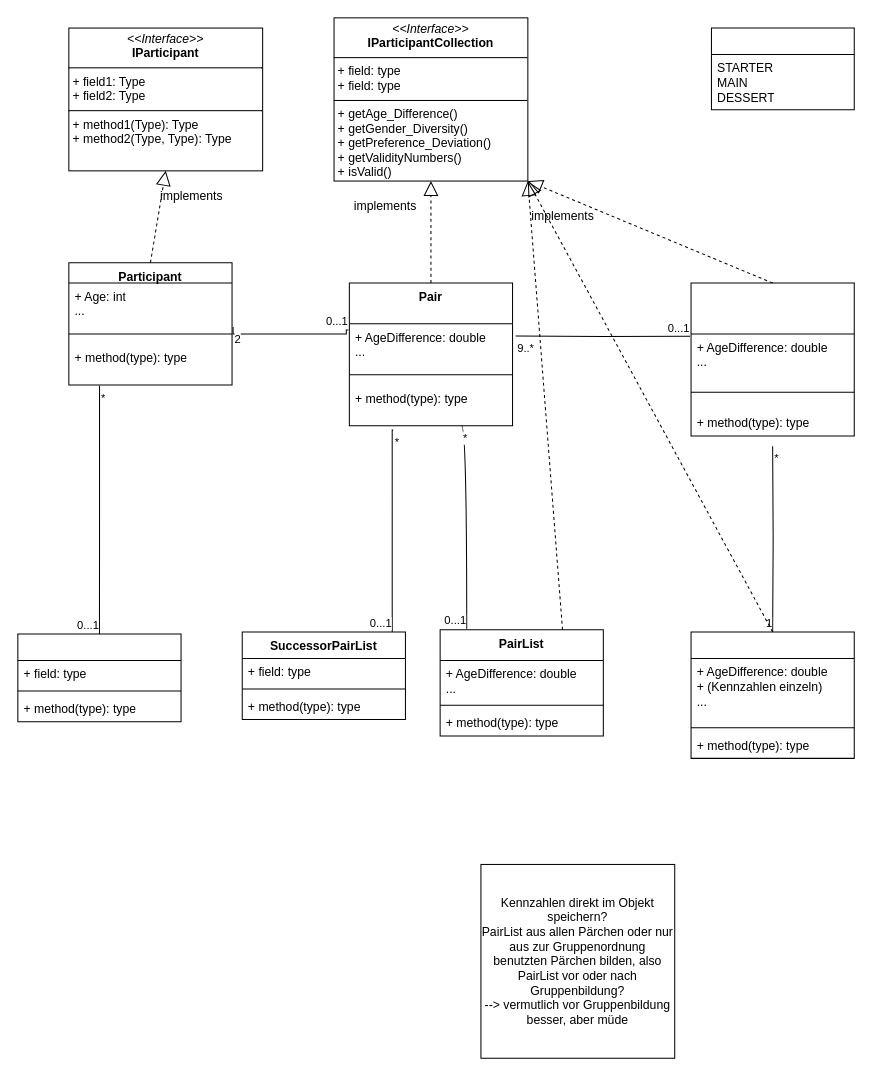
Image size: 872x1076. Some labels were removed from this diagram. The box of each missing label's shape, as (x1, y1, x2, y2) in pixels:
<<enum>> Course: (710, 27, 854, 110)
Group: (690, 282, 854, 436)
GroupList: (690, 631, 854, 758)
SuccessorParticipantList: (17, 633, 181, 722)
